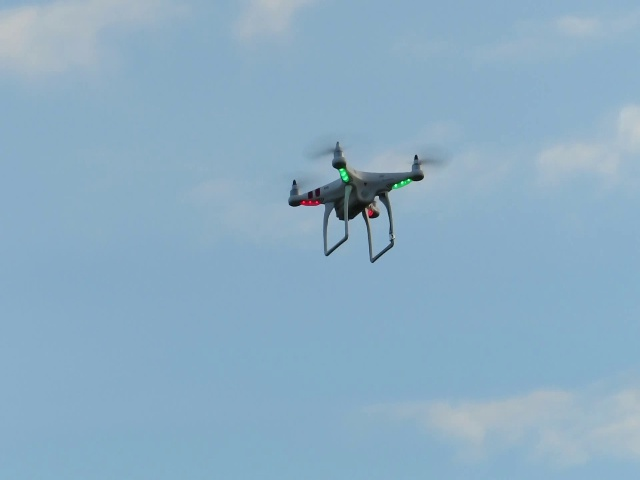drone: (281, 134, 438, 265)
